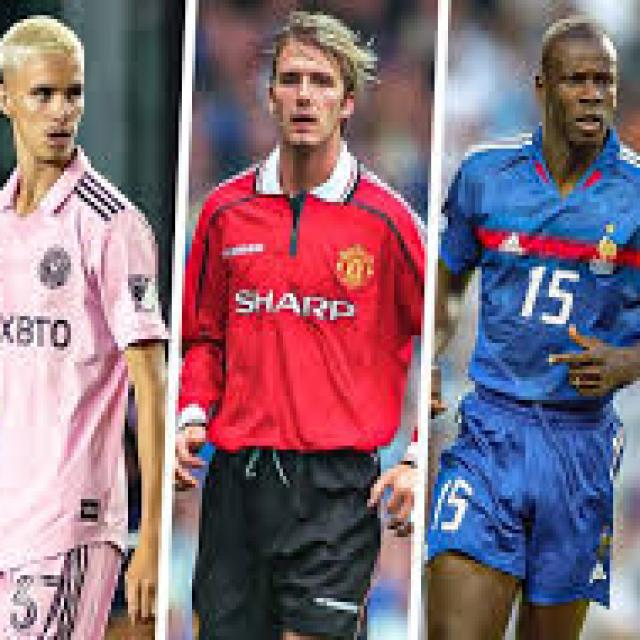player: (183, 0, 415, 640), (434, 0, 640, 636), (0, 0, 168, 640)
